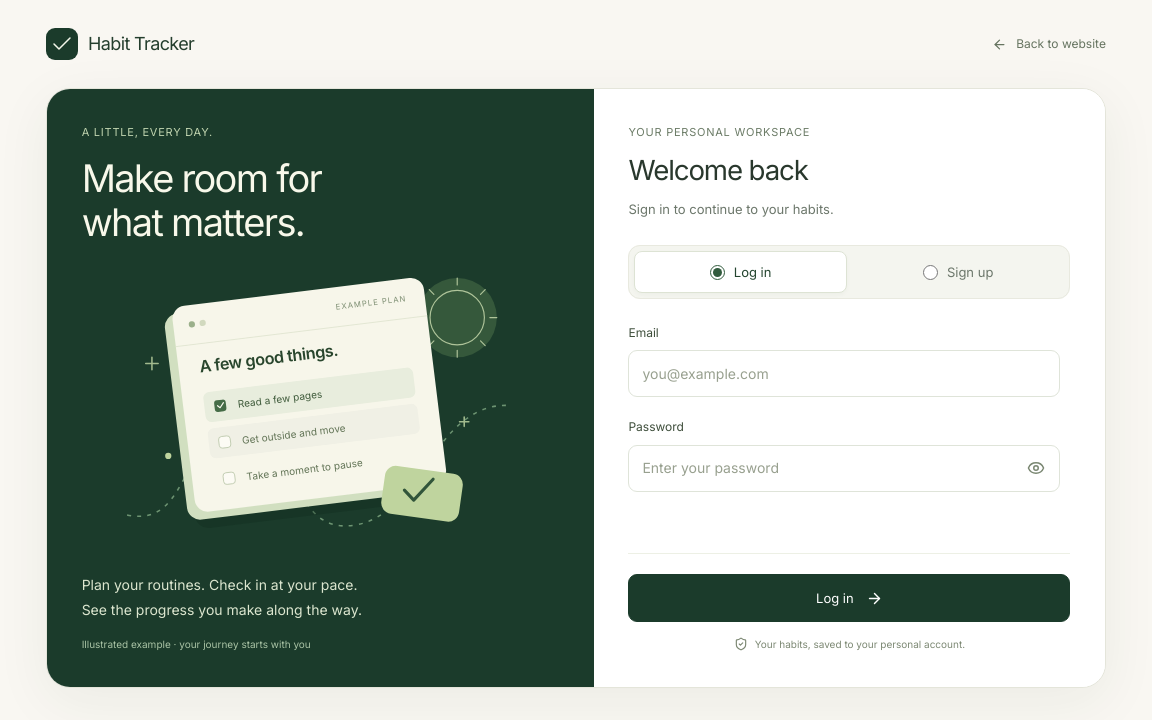
AuthPage › switches modes in one form while keeping the radio selector and submit action outside the scrolling fields
The width and height of the screenshot is (1152, 720).
Check: the radio button with id "login-tab" is checked, box [710,265,725,280]
What coordinates should you click on to do the following:
click the radio button with id "register-tab"
I would click on:
 (930, 272)
Its box is [923,265,938,280].
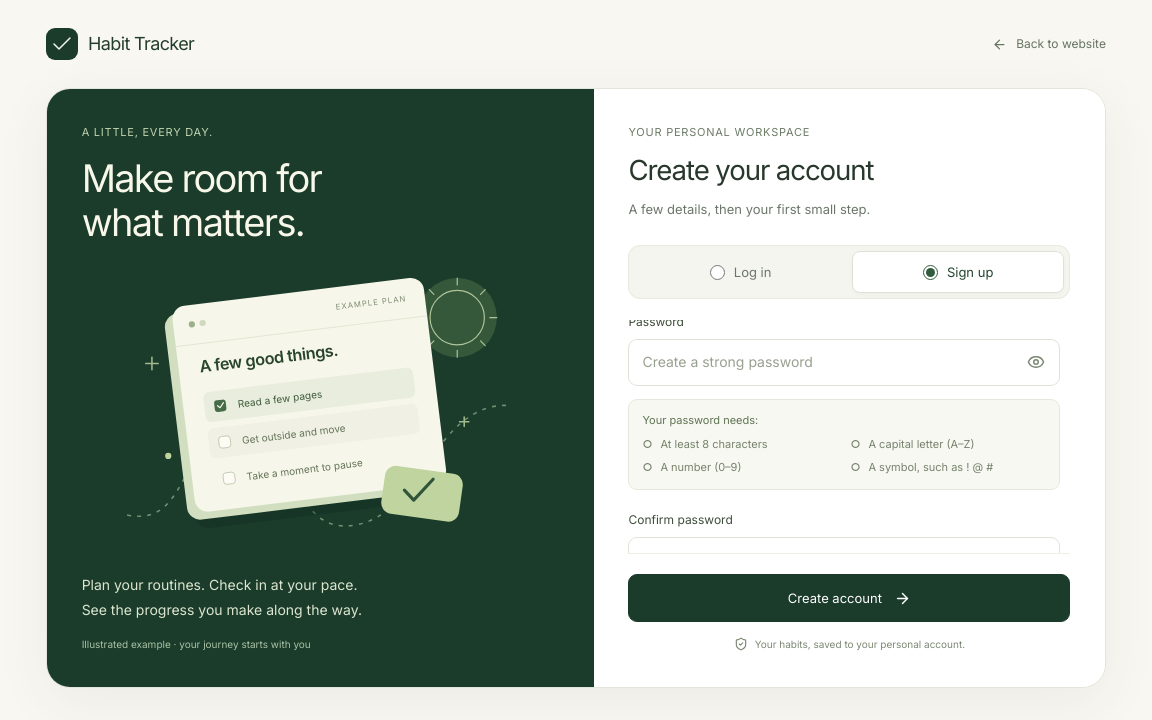
Check: the radio button with id "register-tab" is checked, box [923,265,938,280]
What coordinates should you click on to do the following:
click the radio button with id "login-tab"
I would click on:
 (717, 272)
Its box is [710,265,725,280].
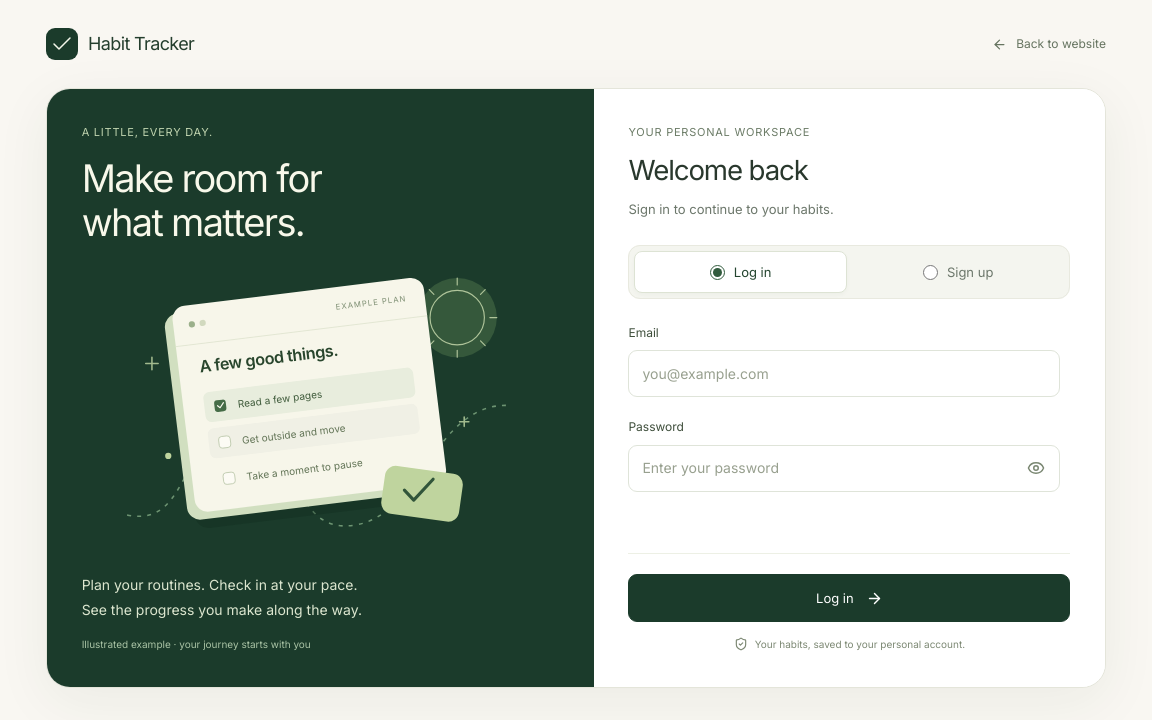
Check: the password field named "confirm_password" is gone
Check: the button with class "auth-submit" reads "Log in", box [628,574,1070,622]
